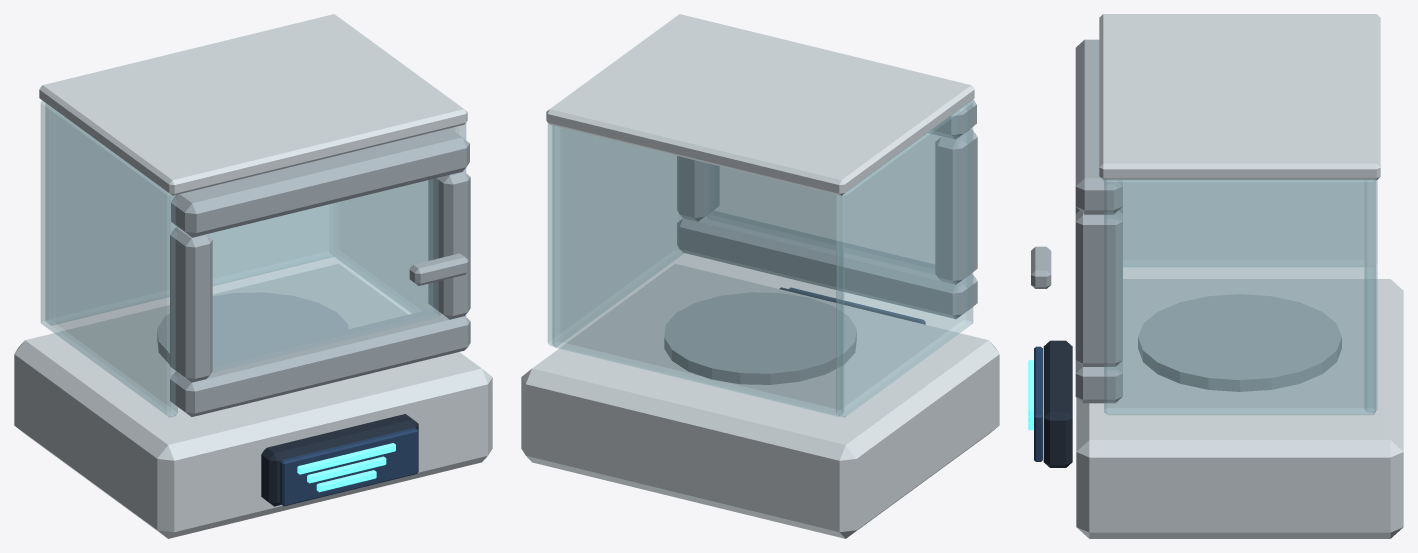
Rendered from lab_04.glb.
The picture shows the model from 3 angles, left to right: view 1: azimuth 30°, elevation 25°; view 2: azimuth 150°, elevation 25°; view 3: azimuth 270°, elevation 25°; orthographic projection. The views are drawn at different scales.
Visible parts, largest first — view 1: BalanceBase, GlassRoof, GlassSide (×2), InsetPanel, GlassBack, DoorPanel, GlazedTopRail, GlazedSideRail (×2), WeighPan, Screen, MonitorFrame, DisplayLine (×3) (+1 smaller); view 2: BalanceBase, GlassBack, GlassSide (×2), GlassRoof, InsetPanel, WeighPan, DoorPanel, GlazedSideRail (×2), GlazedTopRail; view 3: GlassSide (×2), BalanceBase, GlassRoof, WeighPan, GlazedSideRail, GlazedTopRail, MonitorFrame, GlassBack, DoorPanel, Screen, Handle.
Boxes of the visible parts, left/top/right/bottom form: BalanceBase: left=14, top=264, right=492, bottom=538; GlassRoof: left=39, top=14, right=467, bottom=195; GlassSide (×2): left=40, top=101, right=466, bottom=417; InsetPanel: left=206, top=177, right=440, bottom=372; GlassBack: left=45, top=103, right=333, bottom=325; DoorPanel: left=170, top=308, right=470, bottom=416; GlazedTopRail: left=171, top=128, right=469, bottom=237; GlazedSideRail (×2): left=170, top=171, right=470, bottom=382; WeighPan: left=157, top=292, right=348, bottom=364; Screen: left=280, top=427, right=418, bottom=506; MonitorFrame: left=261, top=414, right=418, bottom=506; DisplayLine (×3): left=297, top=443, right=395, bottom=492; BalanceBase: left=521, top=264, right=999, bottom=538; GlassBack: left=552, top=125, right=843, bottom=416; GlassSide (×2): left=547, top=101, right=973, bottom=417; GlassRoof: left=546, top=14, right=974, bottom=195; InsetPanel: left=707, top=133, right=940, bottom=269; WeighPan: left=664, top=292, right=856, bottom=384; DoorPanel: left=677, top=211, right=977, bottom=318; GlazedSideRail (×2): left=677, top=129, right=977, bottom=284; GlazedTopRail: left=928, top=99, right=976, bottom=139; GlassSide (×2): left=1104, top=179, right=1375, bottom=415; BalanceBase: left=1076, top=279, right=1403, bottom=538; GlassRoof: left=1099, top=14, right=1380, bottom=180; WeighPan: left=1138, top=294, right=1341, bottom=391; GlazedSideRail: left=1075, top=210, right=1122, bottom=366; GlazedTopRail: left=1075, top=39, right=1122, bottom=214; MonitorFrame: left=1043, top=340, right=1072, bottom=467; GlassBack: left=1364, top=180, right=1377, bottom=412; DoorPanel: left=1075, top=360, right=1122, bottom=403; Screen: left=1034, top=346, right=1042, bottom=461; Handle: left=1031, top=246, right=1051, bottom=288.
Bounding box in the file's own units: 0.56 × 0.5605 × 0.516.
